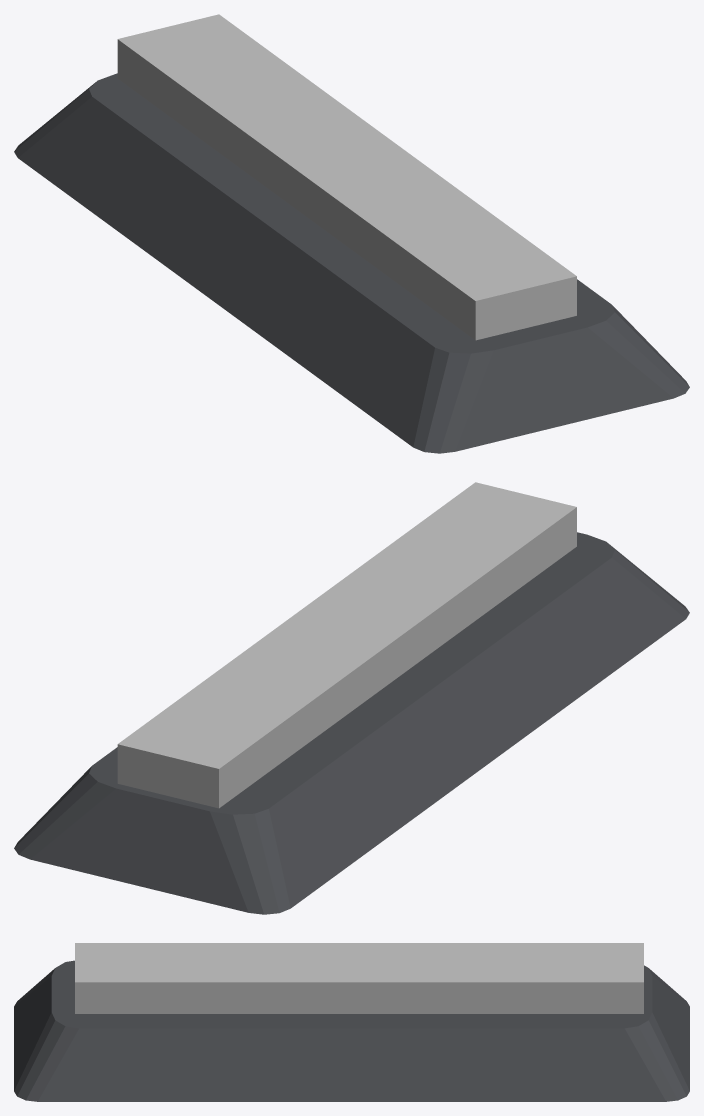
File: konkurinoare.fbx
3 renders of one model, top to bottom at view 1: azimuth 30°, elevation 25°; view 2: azimuth 150°, elevation 25°; view 3: azimuth 270°, elevation 25°, orthographic. The views are drawn at different scales.
Visible parts, largest first — view 1: 立方体; view 2: 立方体; view 3: 立方体.
Part boxes in pixels (box(x1,y1,x2,y2)): 立方体: box(14, 14, 689, 453); 立方体: box(14, 482, 689, 914); 立方体: box(14, 943, 689, 1101).
Bounding box in the file's own units: 571 × 234 × 1541.
